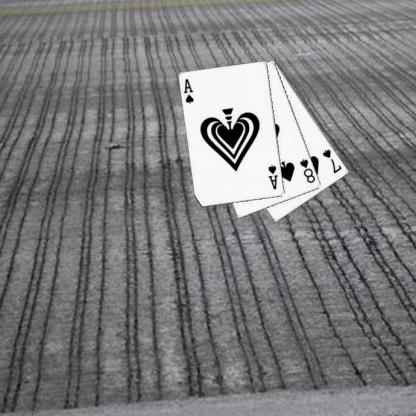7S: (320, 146, 343, 175)
8S: (297, 157, 317, 184)
AS: (182, 76, 196, 105), (266, 163, 279, 190)
